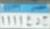1: (18, 12, 25, 27), (11, 17, 17, 26), (1, 13, 5, 26), (8, 13, 12, 25)
ج: (41, 14, 48, 28)
د: (35, 15, 40, 26)
ع: (25, 14, 34, 28)
